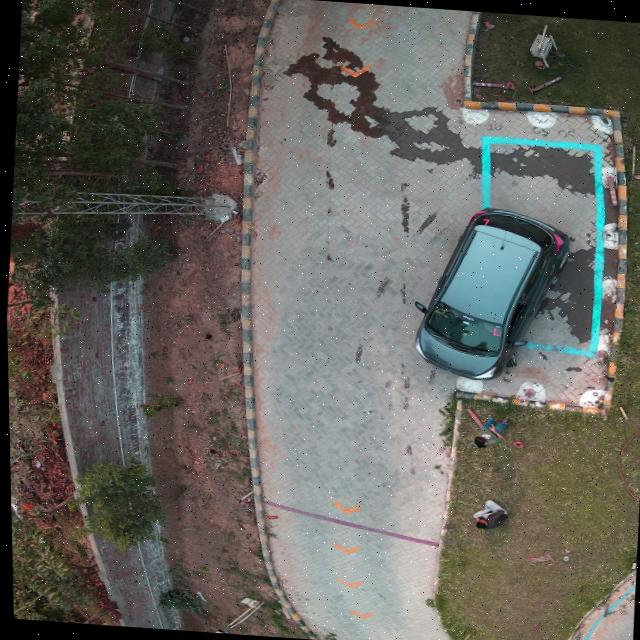car: (411, 207, 567, 380)
